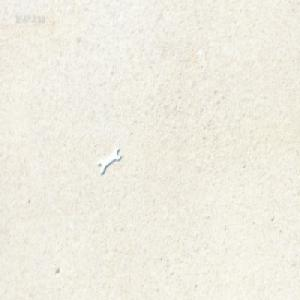Wrench: (98, 143, 121, 172)
